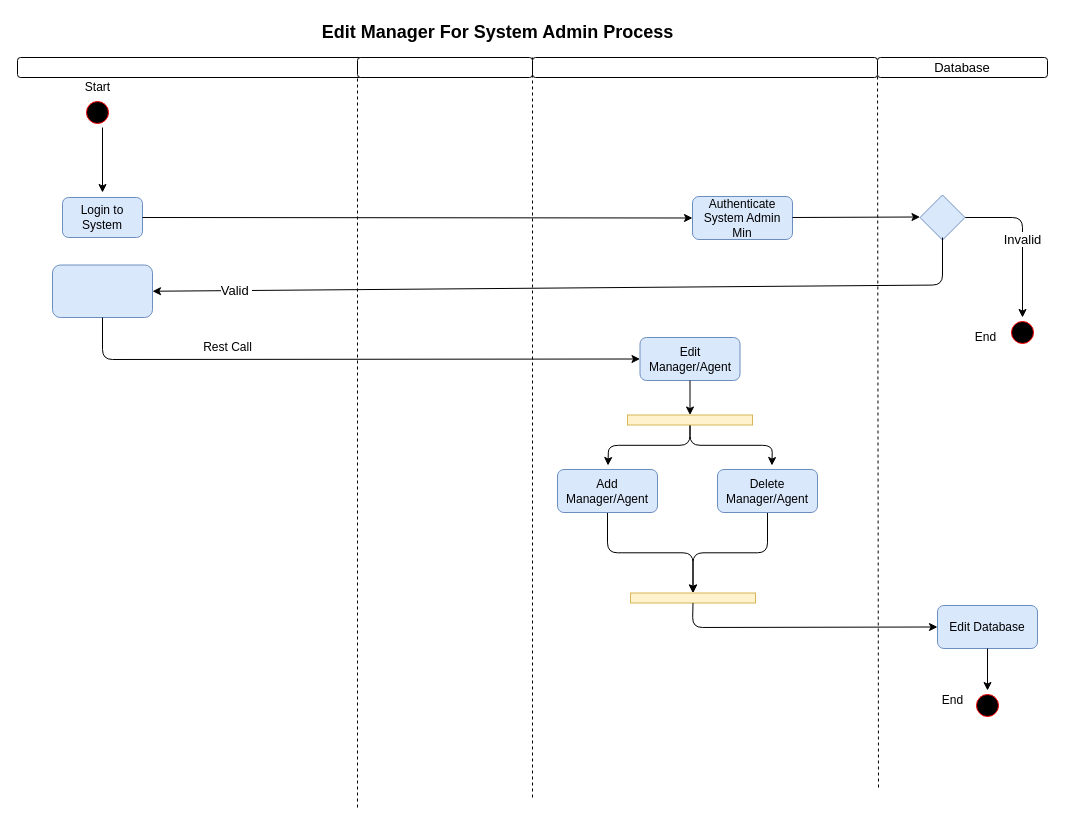
Image size: 1065x826. Some labels were removed from this diagram. The centre of each missing label's shape, as x and y in pixels:
"Backend" goes at [705,67].
"Enter Manager/Agent Information" goes at [102,291].
"Hardware" goes at [444,67].
"User" goes at [197,67].
